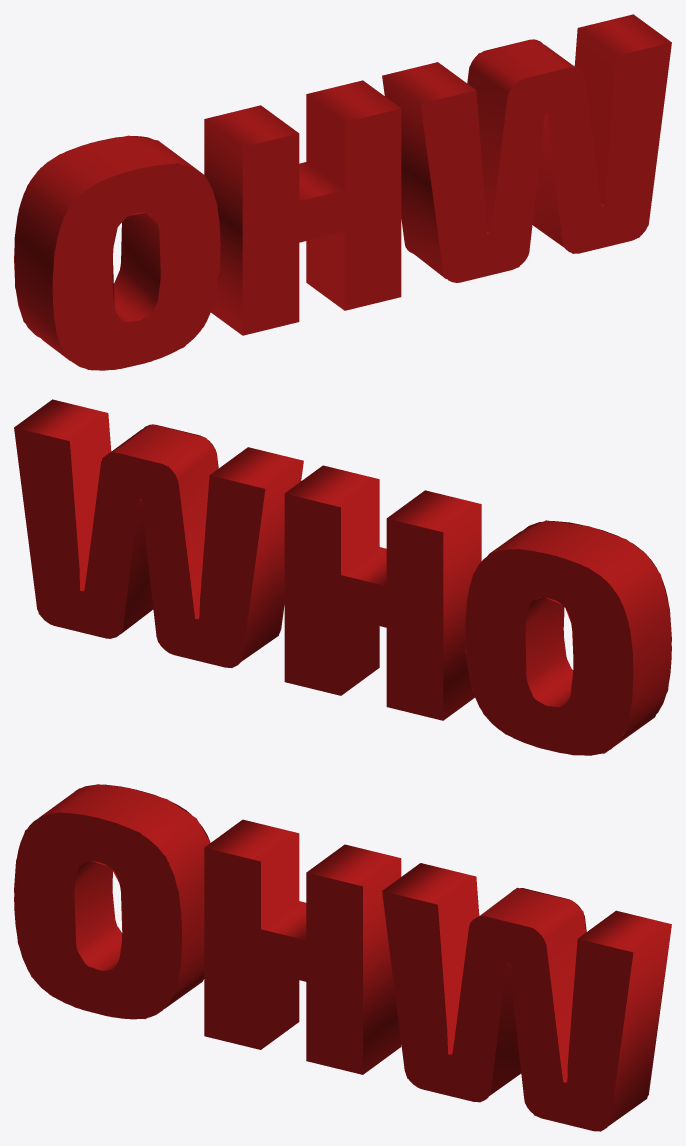
The model's file is who.fbx.
3 renders of one model, top to bottom at view 1: azimuth 30°, elevation 25°; view 2: azimuth 150°, elevation 25°; view 3: azimuth 330°, elevation 25°, orthographic.
Visible parts, largest first — view 1: Text; view 2: Text; view 3: Text.
Part boxes in pixels (box(x1,y1,x2,y2)): Text: box(14, 14, 671, 370); Text: box(14, 399, 671, 755); Text: box(14, 784, 671, 1131).
Bounding box in the file's own units: 7.43 × 2.25 × 0.8.
